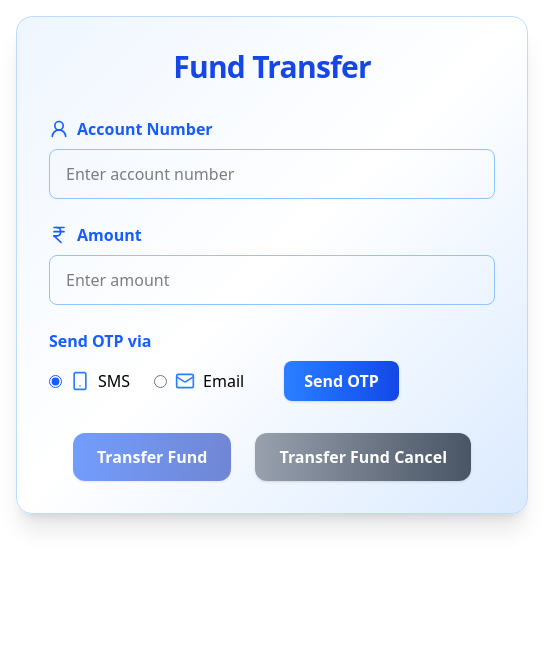
Test case: FundTransfer Component › sends OTP successfully if fields valid
In the field with placeholder "Enter account number": (272, 174) left=49, top=149, right=495, bottom=199, type "12345678"
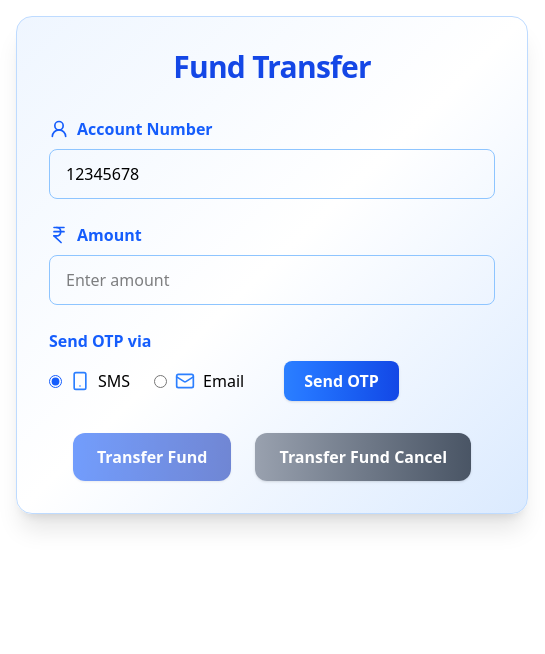
In the field with placeholder "Enter amount": (272, 280) left=49, top=255, right=495, bottom=305, type "500"
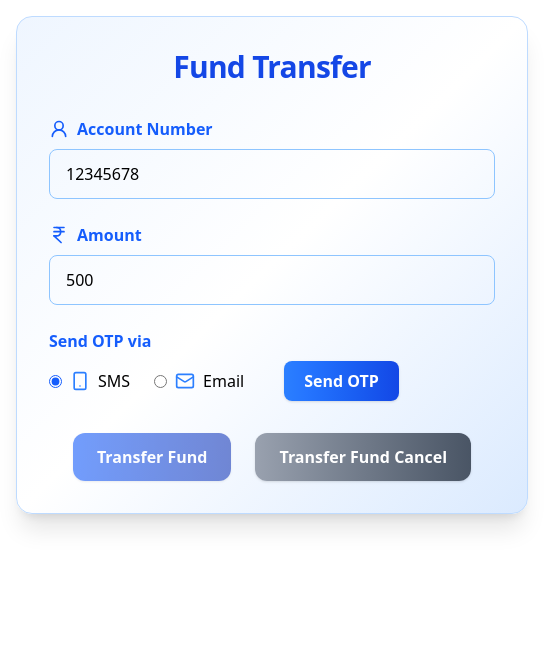
Click the button "Send OTP": (342, 381) left=284, top=361, right=399, bottom=401
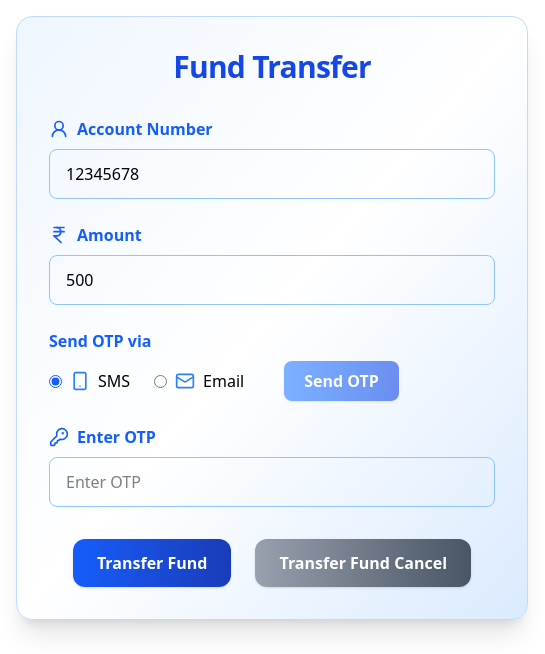
Expected: the field with placeholder "Enter OTP" is shown, left=49, top=457, right=495, bottom=507
